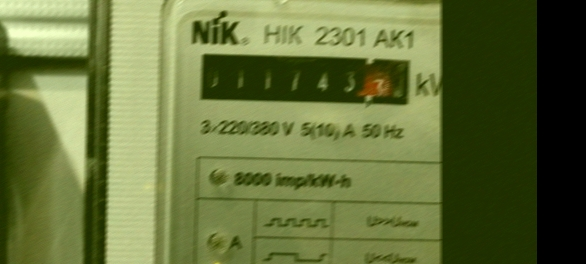0: (205, 63, 219, 90)
1: (232, 63, 246, 91), (260, 64, 273, 92)
3: (341, 68, 355, 95), (370, 78, 385, 99)
4: (315, 69, 329, 94)
7: (287, 67, 301, 92)
screen: (192, 49, 418, 113)
